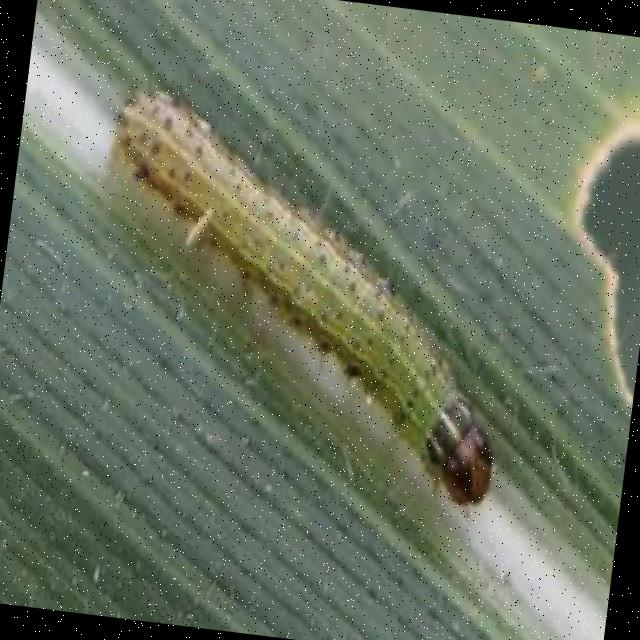worm: (71, 80, 538, 525), (415, 389, 505, 524)
